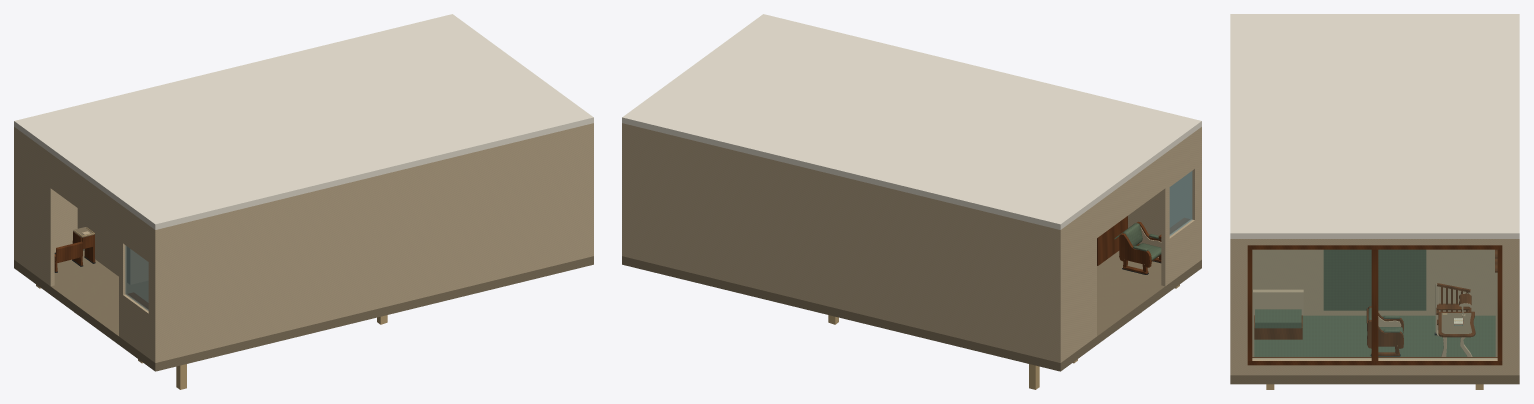
File: NG410_WarmInterior_r001.glb
3 views of the same model, side by side, from view 1: azimuth 30°, elevation 25°; view 2: azimuth 150°, elevation 25°; view 3: azimuth 270°, elevation 25° (orthographic). The views are drawn at different scales.
Visible parts, largest first — view 1: NG410_RuntimeBatch_001, NG410_RoomFloor, NG410_ScreenedStreetGlass, NG410_RuntimeBatch_013; view 2: NG410_RuntimeBatch_001, NG410_RoomFloor, NG410_ScreenedStreetGlass, NG410_RuntimeBatch_049, NG410_RuntimeBatch_002; view 3: NG410_RuntimeBatch_001, NGP_410_PrivateViewPane, NG410_RoomFloor, NGW_410_OutlookFloorInlay, NG410_RuntimeBatch_006, NGP_410_Frame_Sill, NGP_410_Frame_Head, NGP_410_ViewSeat_Back, NGP_410_ViewSeat_Cushion, NGP_410_RetainedFrameAlignment, NG410_RuntimeBatch_007, NG410_RuntimeBatch_028 (+5 smaller).
Boxes of the visible parts, x1=… form: NG410_RuntimeBatch_001: x1=14, y1=14, x2=593, y2=362; NG410_RoomFloor: x1=14, y1=250, x2=593, y2=371; NG410_ScreenedStreetGlass: x1=125, y1=245, x2=148, y2=310; NG410_RuntimeBatch_013: x1=54, y1=231, x2=95, y2=271; NG410_RuntimeBatch_001: x1=622, y1=14, x2=1201, y2=362; NG410_RoomFloor: x1=622, y1=251, x2=1201, y2=371; NG410_ScreenedStreetGlass: x1=1169, y1=171, x2=1192, y2=235; NG410_RuntimeBatch_049: x1=1119, y1=221, x2=1161, y2=274; NG410_RuntimeBatch_002: x1=1097, y1=216, x2=1190, y2=265; NG410_RuntimeBatch_001: x1=1230, y1=14, x2=1519, y2=375; NGP_410_PrivateViewPane: x1=1252, y1=250, x2=1497, y2=358; NG410_RoomFloor: x1=1230, y1=249, x2=1519, y2=384; NGW_410_OutlookFloorInlay: x1=1254, y1=315, x2=1495, y2=356; NG410_RuntimeBatch_006: x1=1323, y1=249, x2=1426, y2=310; NGP_410_Frame_Sill: x1=1247, y1=357, x2=1502, y2=365; NGP_410_Frame_Head: x1=1247, y1=245, x2=1502, y2=249; NGP_410_ViewSeat_Back: x1=1253, y1=289, x2=1303, y2=315; NGP_410_ViewSeat_Cushion: x1=1255, y1=309, x2=1301, y2=328; NGP_410_RetainedFrameAlignment: x1=1371, y1=249, x2=1378, y2=360; NG410_RuntimeBatch_007: x1=1436, y1=283, x2=1475, y2=337; NG410_RuntimeBatch_028: x1=1366, y1=306, x2=1403, y2=355.
Bounding box in the file's own units: 12.9 × 5.31 × 7.2.
Materials: 37 (20 with a texture image).
